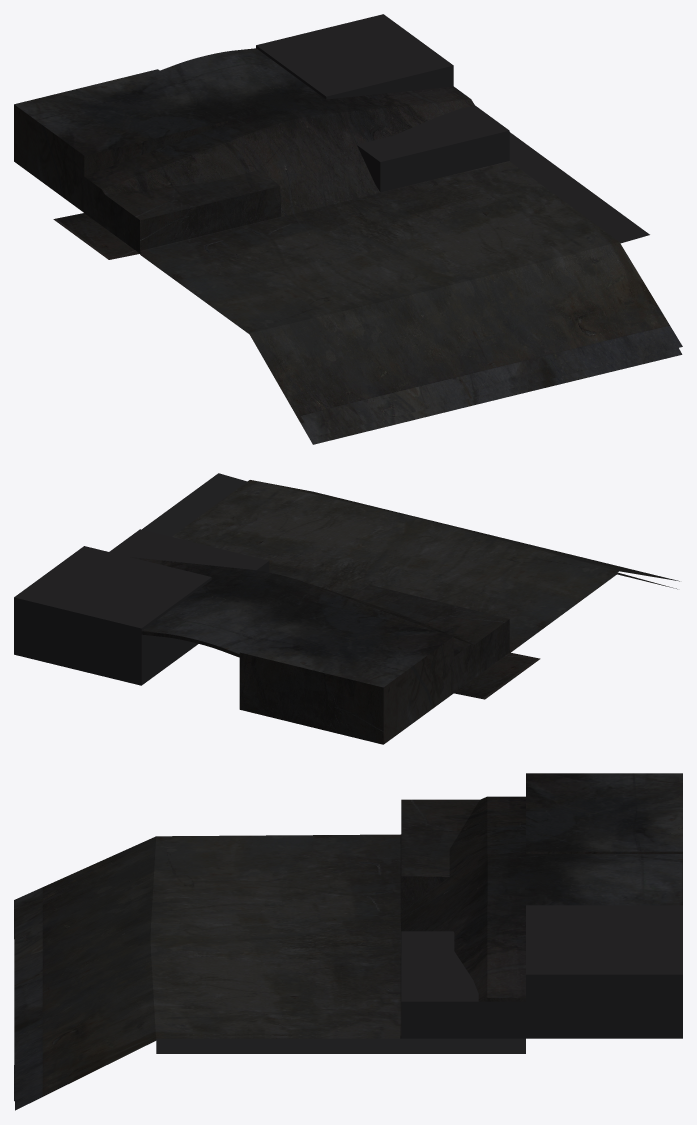
Rendered from Roof 1st.fbx.
3 views of the same model, one above another, from view 1: azimuth 30°, elevation 25°; view 2: azimuth 150°, elevation 25°; view 3: azimuth 270°, elevation 25° (orthographic). The views are drawn at different scales.
Parts seen in each view (by area): view 1: Roof + Floor (1st).005; view 2: Roof + Floor (1st).005; view 3: Roof + Floor (1st).005.
Part boxes in pixels (x1,y1,x2,y2): Roof + Floor (1st).005: (14,14,682,444); Roof + Floor (1st).005: (14,473,679,744); Roof + Floor (1st).005: (14,773,682,1110).
Bounding box in the file's own units: 4777 × 1308 × 5738.
